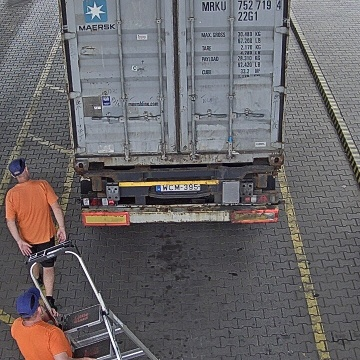serial_id: (202, 0, 282, 10)
